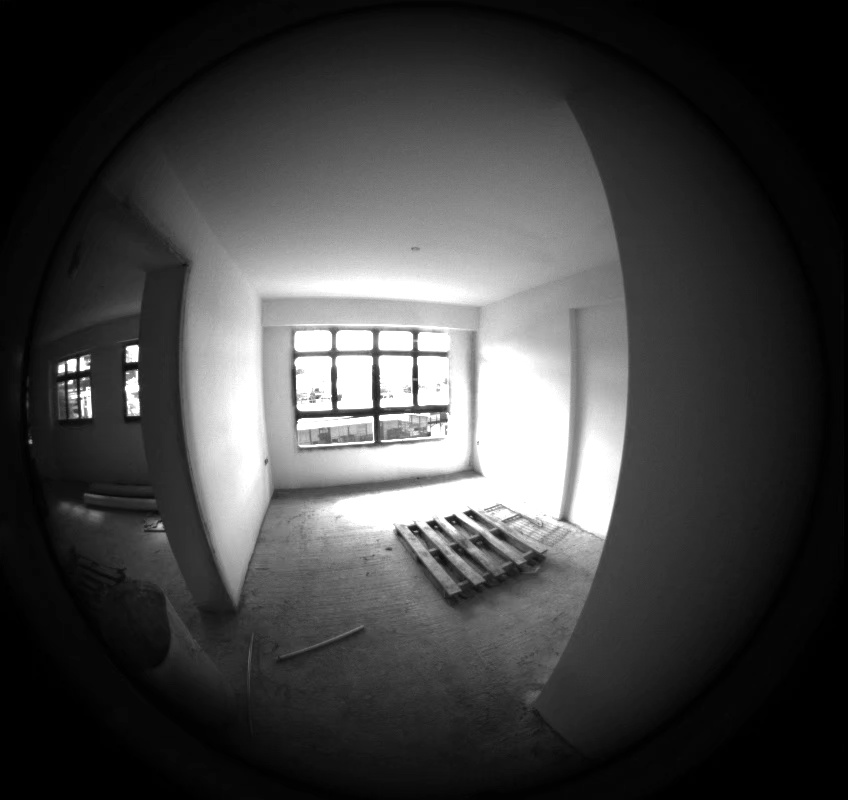Building materials: (150, 92, 545, 601), (68, 170, 231, 727), (74, 27, 157, 510)
Ceiling: (162, 14, 616, 303)
Floor: (52, 309, 602, 796)
Tools: (87, 35, 364, 660), (6, 102, 253, 734)
Wall: (287, 38, 824, 755), (66, 233, 624, 535), (94, 233, 568, 515), (150, 266, 625, 535), (210, 163, 472, 488), (91, 240, 271, 605), (95, 265, 234, 608)
Windows: (156, 119, 447, 447), (35, 68, 92, 421)
